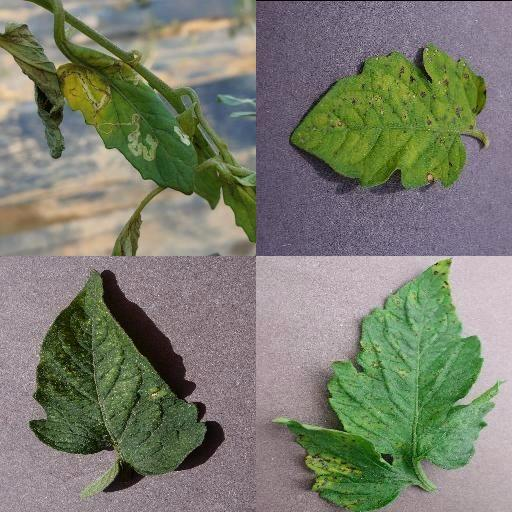Leaf Miner: (57, 42, 199, 196)
Septoria: (270, 256, 508, 512), (289, 46, 485, 188)
Spider Mites: (31, 268, 207, 478)
